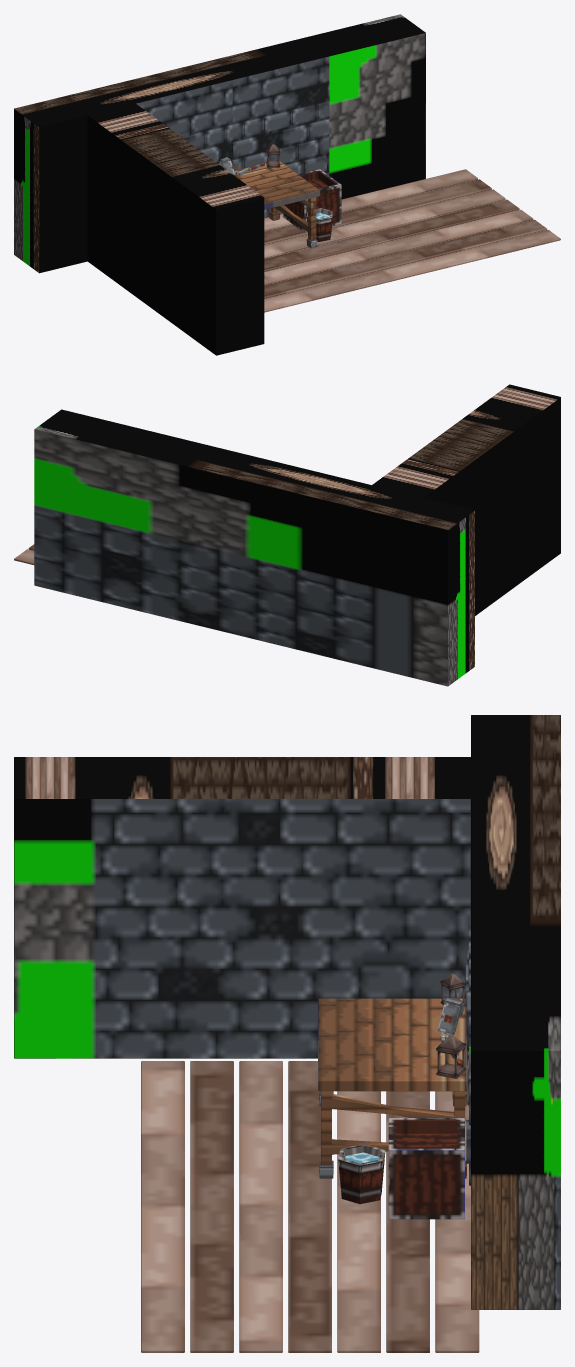
The model's file is CraftingTable.fbx.
The picture shows the model from 3 angles, top to bottom: view 1: azimuth 30°, elevation 25°; view 2: azimuth 150°, elevation 25°; view 3: azimuth 270°, elevation 25°; orthographic projection. The views are drawn at different scales.
Visible parts, largest first — view 1: CraftingTable, Cube, Cylinder; view 2: CraftingTable; view 3: CraftingTable, Cube, Cylinder.
Boxes of the visible parts, x1=… form: CraftingTable: x1=14, y1=14, x2=560, y2=355; Cube: x1=283, y1=169, x2=341, y2=232; Cylinder: x1=306, y1=208, x2=333, y2=241; CraftingTable: x1=14, y1=384, x2=560, y2=686; CraftingTable: x1=14, y1=715, x2=560, y2=1352; Cube: x1=388, y1=1118, x2=464, y2=1219; Cylinder: x1=338, y1=1144, x2=385, y2=1203.
Size of the model in its own units: 1957 by 654 by 1216.
4 materials, 4 textured.
